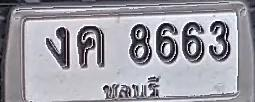3: (209, 20, 230, 62)
6: (156, 22, 178, 63), (182, 21, 204, 62)
8: (129, 23, 152, 65)
A04: (78, 25, 106, 68)
A07: (45, 26, 70, 69)
CBI: (101, 77, 164, 102)
